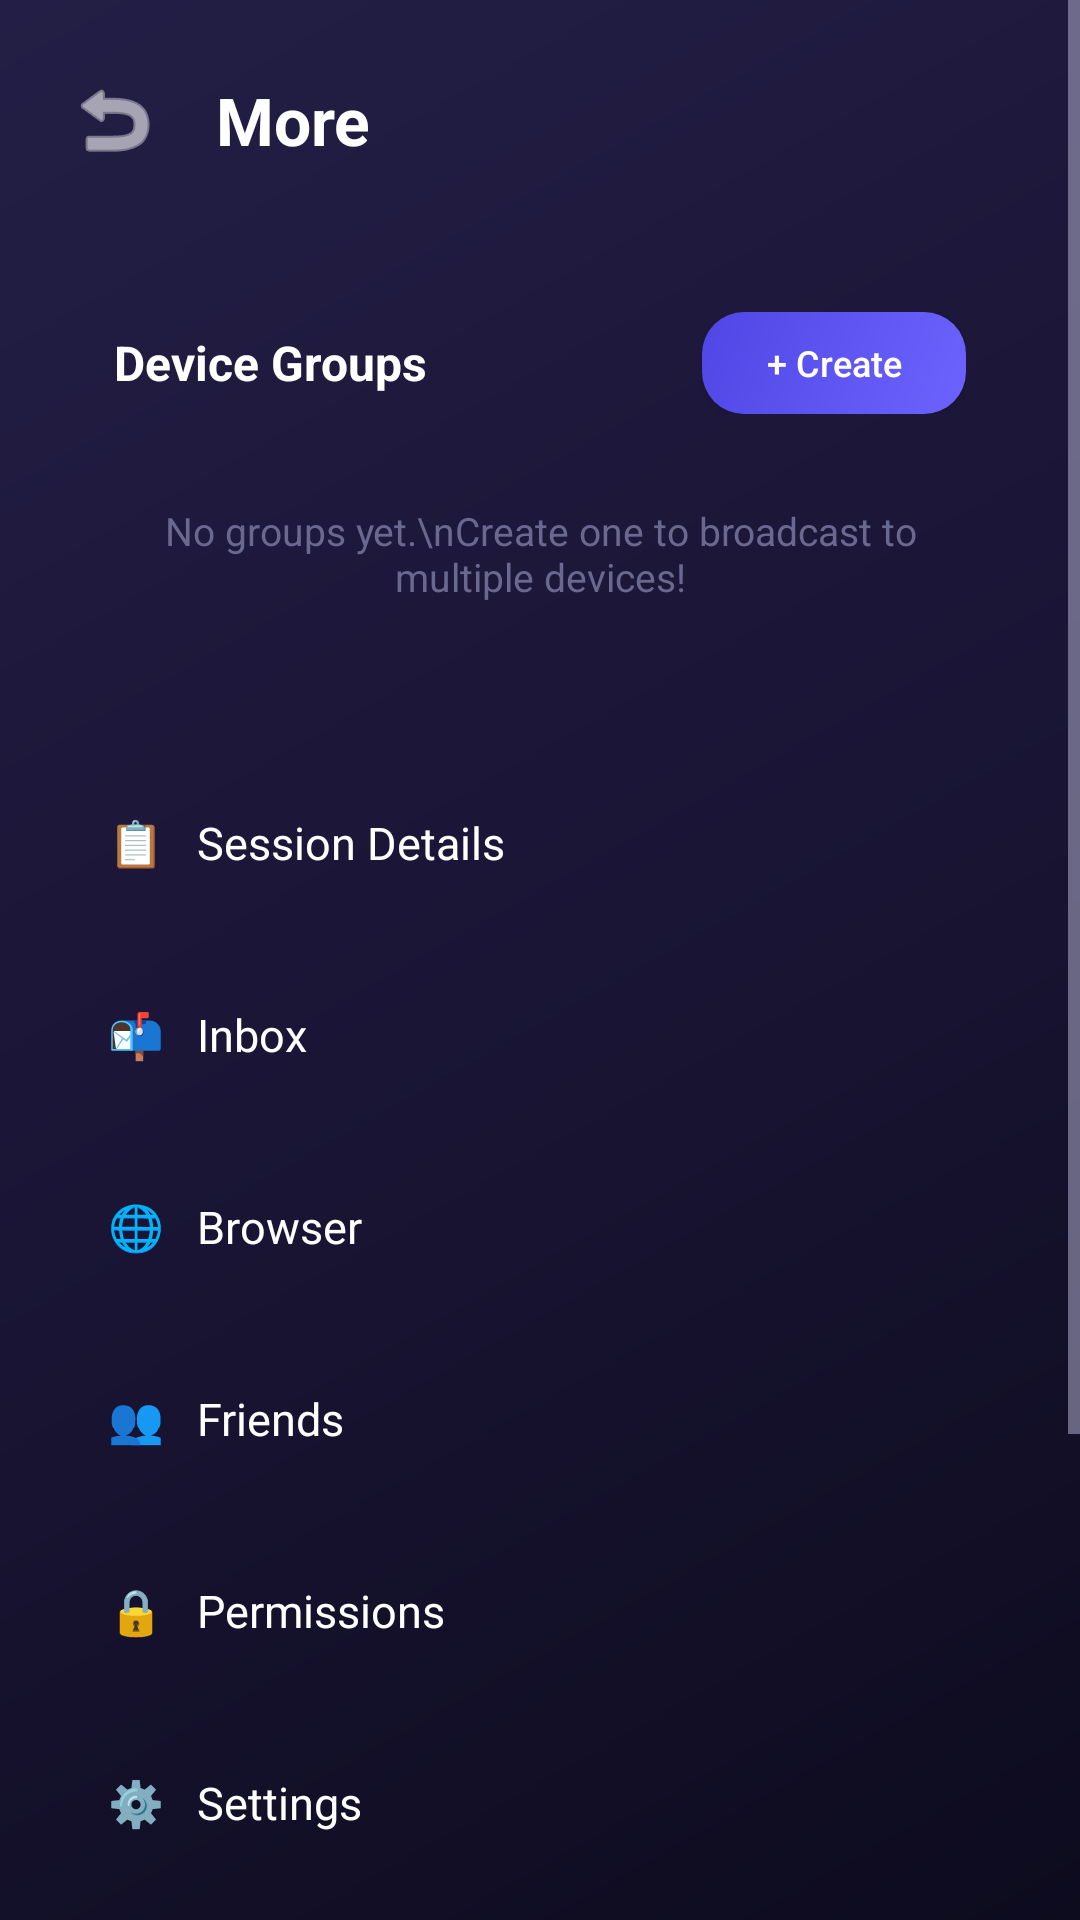

Screen size 1080 × 1920. Icon name, then its center in pixels as [x,y]:
Back: [115,120]
